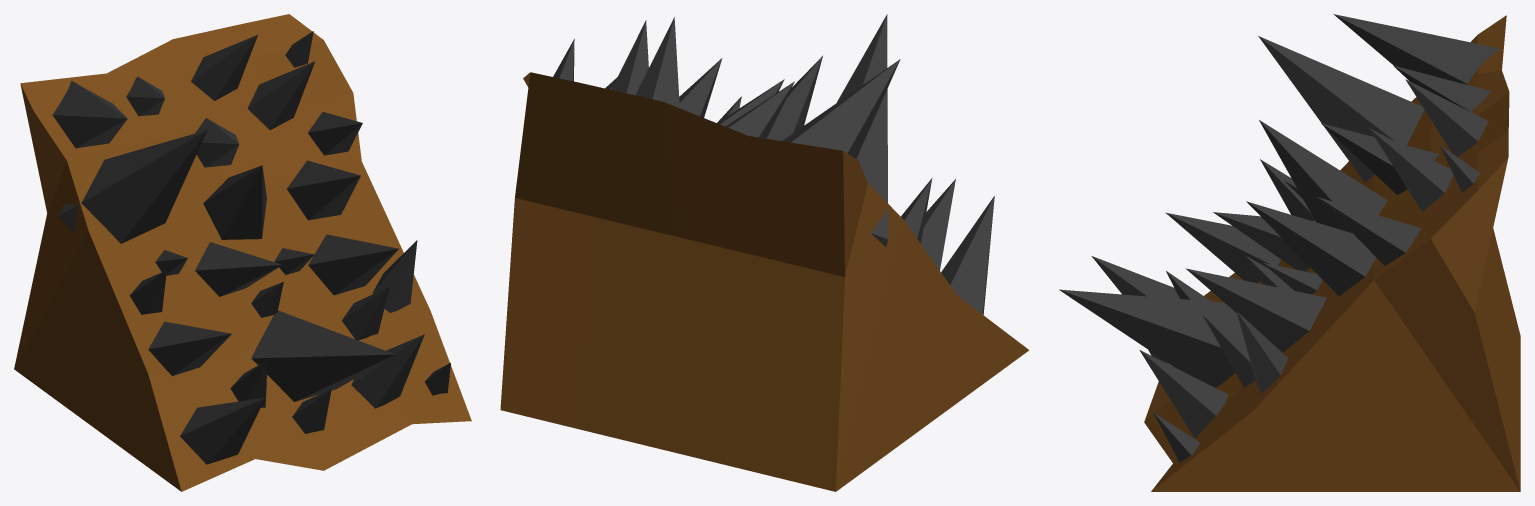
The model's file is spikes.fbx.
3 renders of one model, left to right at view 1: azimuth 30°, elevation 25°; view 2: azimuth 150°, elevation 25°; view 3: azimuth 270°, elevation 25°, orthographic. The views are drawn at different scales.
Visible parts, largest first — view 1: Cube, Cone.007, Cone, Cone.012, Cone.003, Cone.010, Cone.024, Cone.008, Cone.009, Cone.001, Cone.013, Cone.006 (+14 smaller); view 2: Cube, Cone.024, Cone.007, Cone.012, Cone.018, Cone.003, Cone.009, Cone.017, Cone.006, Cone.008, Cone.016, Cone.002; view 3: Cube, Cone, Cone.007, Cone.024, Cone.010, Cone.008, Cone.003, Cone.009, Cone.013, Cone.019, Cone.006, Cone.018 (+11 smaller).
Part boxes in pixels (x1=…): Cube: x1=14, y1=14, x2=471, y2=491; Cone.007: x1=58, y1=130, x2=207, y2=243; Cone: x1=251, y1=310, x2=395, y2=401; Cone.012: x1=180, y1=397, x2=265, y2=464; Cone.003: x1=203, y1=165, x2=266, y2=239; Cone.010: x1=308, y1=234, x2=398, y2=295; Cone.024: x1=52, y1=80, x2=127, y2=148; Cone.008: x1=287, y1=160, x2=360, y2=220; Cone.009: x1=148, y1=321, x2=231, y2=375; Cone.001: x1=195, y1=242, x2=281, y2=296; Cone.013: x1=351, y1=334, x2=424, y2=408; Cone.006: x1=247, y1=61, x2=315, y2=130; Cube: x1=500, y1=72, x2=1029, y2=491; Cone.024: x1=782, y1=59, x2=900, y2=158; Cone.007: x1=836, y1=14, x2=888, y2=246; Cone.012: x1=941, y1=196, x2=994, y2=314; Cone.018: x1=635, y1=17, x2=679, y2=108; Cone.003: x1=767, y1=56, x2=822, y2=140; Cone.009: x1=921, y1=179, x2=955, y2=270; Cone.017: x1=725, y1=81, x2=794, y2=138; Cone.006: x1=611, y1=20, x2=648, y2=95; Cone.008: x1=679, y1=58, x2=722, y2=117; Cone.016: x1=901, y1=178, x2=932, y2=243; Cone.002: x1=717, y1=79, x2=784, y2=126; Cube: x1=1144, y1=15, x2=1520, y2=491; Cone: x1=1059, y1=289, x2=1243, y2=387; Cone.007: x1=1258, y1=36, x2=1424, y2=182; Cone.024: x1=1333, y1=14, x2=1499, y2=84; Cone.010: x1=1185, y1=268, x2=1326, y2=352; Cone.008: x1=1246, y1=201, x2=1376, y2=295; Cone.003: x1=1259, y1=120, x2=1387, y2=233; Cone.009: x1=1165, y1=212, x2=1280, y2=283; Cone.013: x1=1139, y1=350, x2=1228, y2=438; Cone.019: x1=1317, y1=197, x2=1421, y2=265; Cone.006: x1=1369, y1=128, x2=1453, y2=211; Cone.018: x1=1405, y1=79, x2=1488, y2=157.
Bounding box in the file's own units: 206 × 222 × 250.
